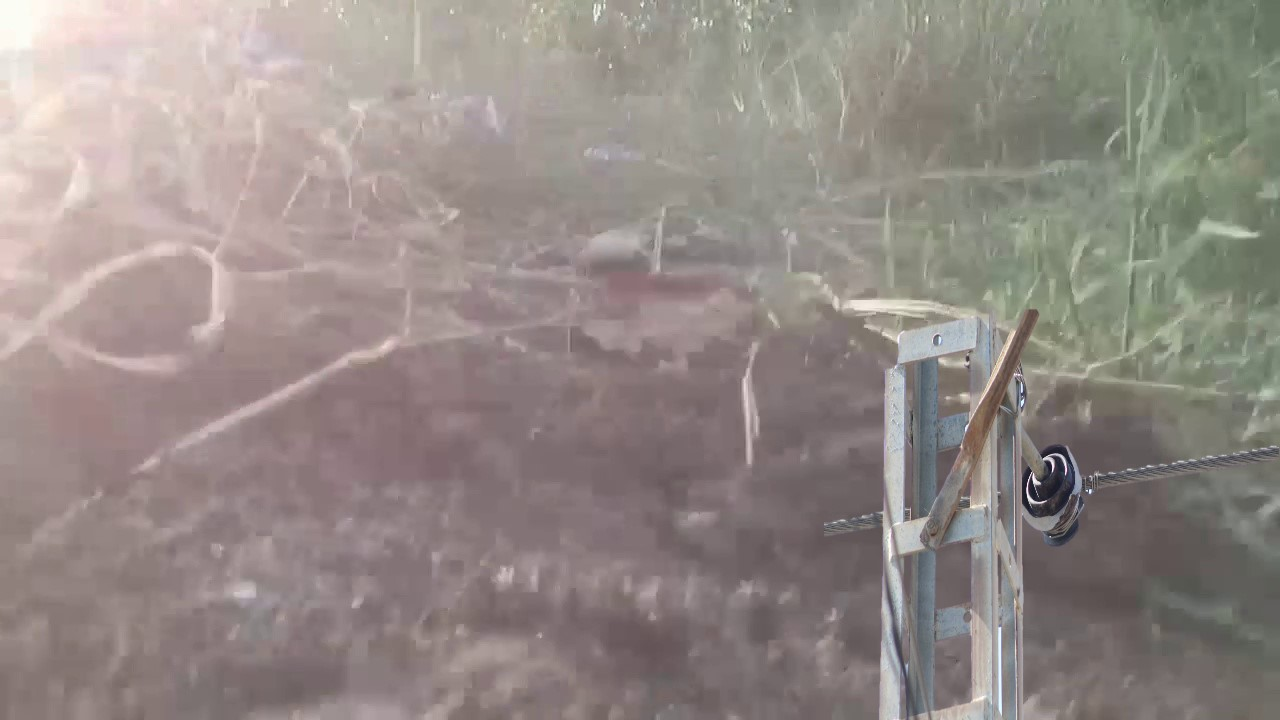defect_pin: (1018, 441, 1089, 547)
